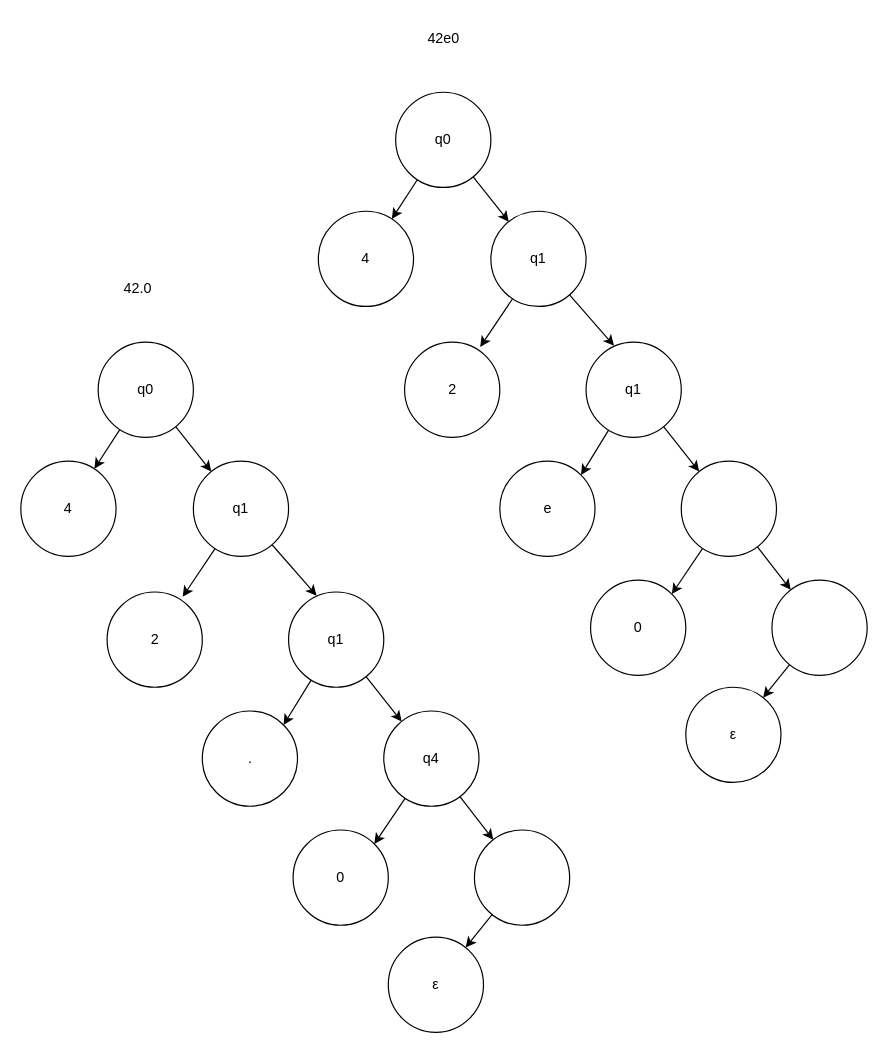
The diagram is 889 pixels wide and 1053 high, and some of its shapes have lost their labels. The shapes that lost their labels are listed below. From the top down, each one's centre as x and y in pixels, then its label:
At (x=728, y=508): "q2".
At (x=819, y=627): "q3".
At (x=521, y=877): "q5".
